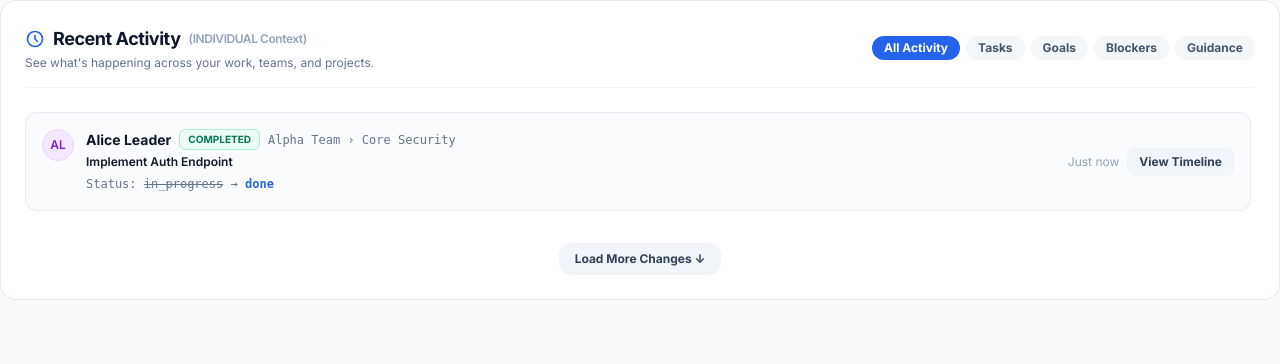
Test: WorkPulseFeed Component › 8. Deduplicates identical history_id events during pagination load
Step 1. Click the button "Load More Changes ↓" → (640, 259), box [559,243,721,275]
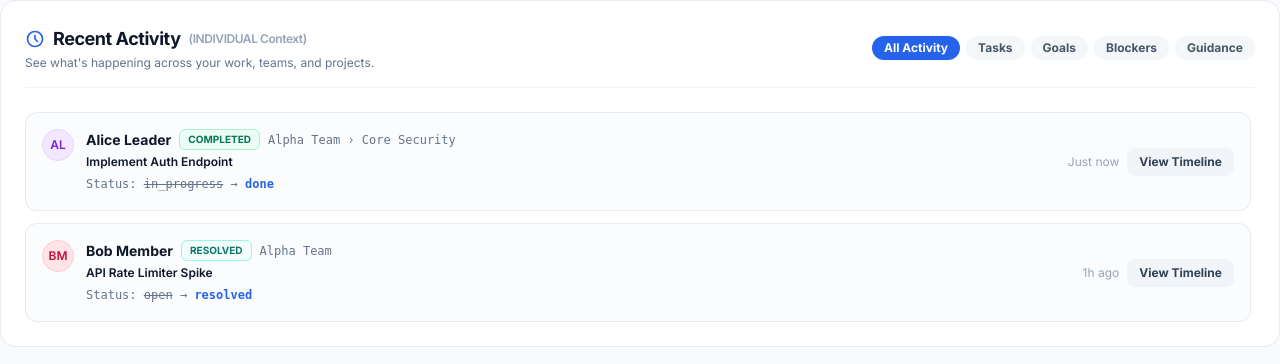
Result: the text "Alpha Team › Core Security" is shown 2 times at [268,132,456,148]; [260,242,332,258]
